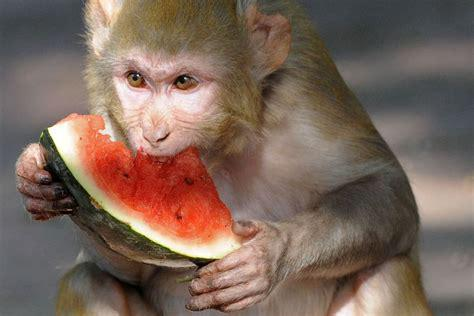monkey: (16, 1, 429, 312)
